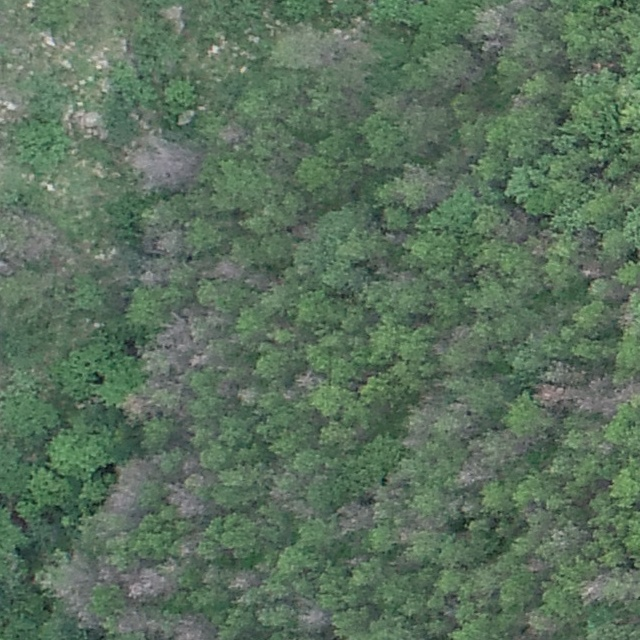unhealthy: (144, 301, 231, 375), (43, 547, 103, 632), (121, 130, 201, 193), (103, 457, 162, 517), (118, 379, 191, 423), (577, 371, 640, 417), (270, 30, 340, 69), (473, 0, 523, 54), (0, 212, 56, 260), (400, 164, 453, 205), (124, 561, 178, 601), (469, 431, 525, 467), (402, 397, 441, 448), (164, 482, 209, 521), (269, 488, 315, 520), (140, 222, 180, 255), (579, 574, 621, 605), (445, 399, 476, 441), (196, 255, 245, 281), (337, 502, 374, 535), (544, 360, 587, 388), (172, 611, 208, 640), (115, 605, 149, 635), (500, 210, 532, 241), (459, 463, 493, 492), (295, 601, 327, 631), (531, 383, 565, 409), (229, 568, 257, 592), (247, 268, 275, 291), (294, 368, 320, 392), (583, 256, 608, 278), (238, 386, 261, 409), (180, 452, 201, 475), (290, 223, 315, 241), (453, 323, 472, 344), (138, 269, 159, 286), (527, 556, 547, 572)
